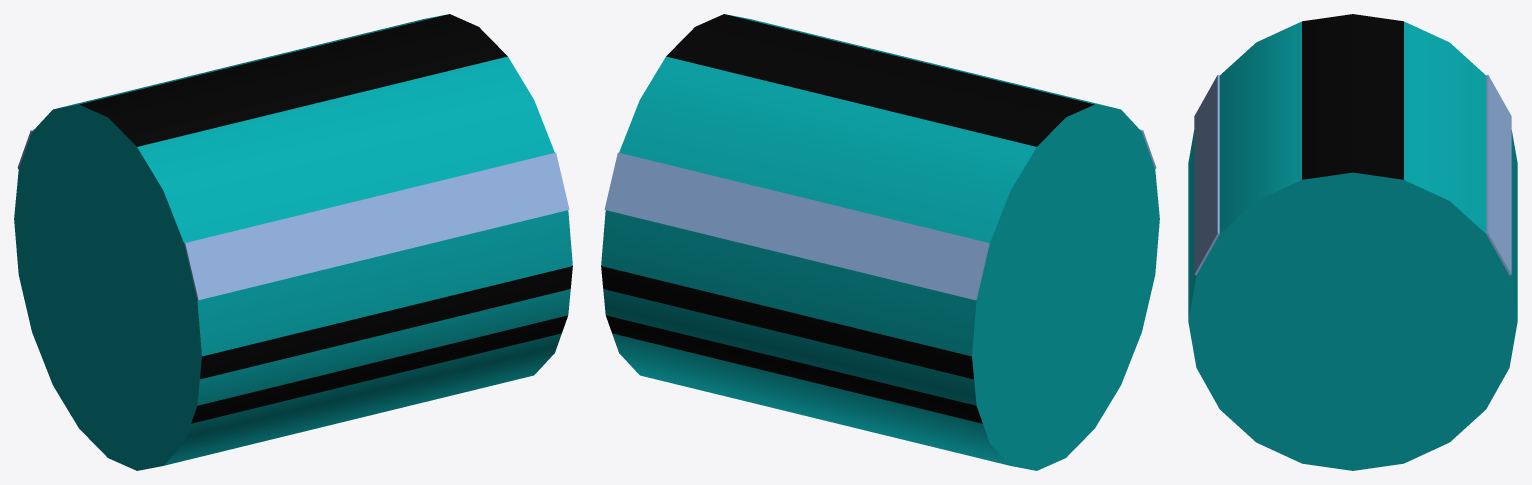
The model's file is br-m-pillar-hori-aqua.fbx.
The picture shows the model from 3 angles, left to right: view 1: azimuth 30°, elevation 25°; view 2: azimuth 150°, elevation 25°; view 3: azimuth 270°, elevation 25°; orthographic projection. The views are drawn at different scales.
Parts seen in each view (by area): view 1: pillar_hori_aqua; view 2: pillar_hori_aqua; view 3: pillar_hori_aqua.
Boxes of the visible parts, x1=… form: pillar_hori_aqua: x1=14, y1=14, x2=572, y2=470; pillar_hori_aqua: x1=601, y1=14, x2=1159, y2=470; pillar_hori_aqua: x1=1188, y1=14, x2=1517, y2=470.
Size of the model in its own units: 1 by 0.8776 by 0.8776.
